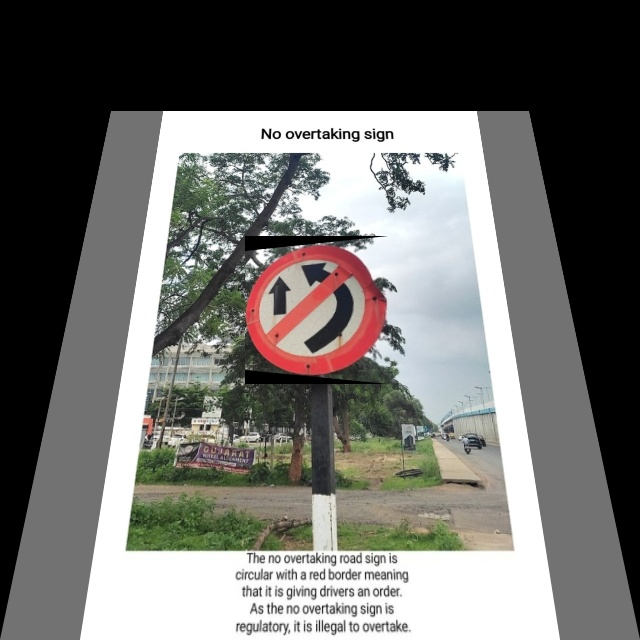Overtaking_Prohibited: (245, 236, 389, 384)
